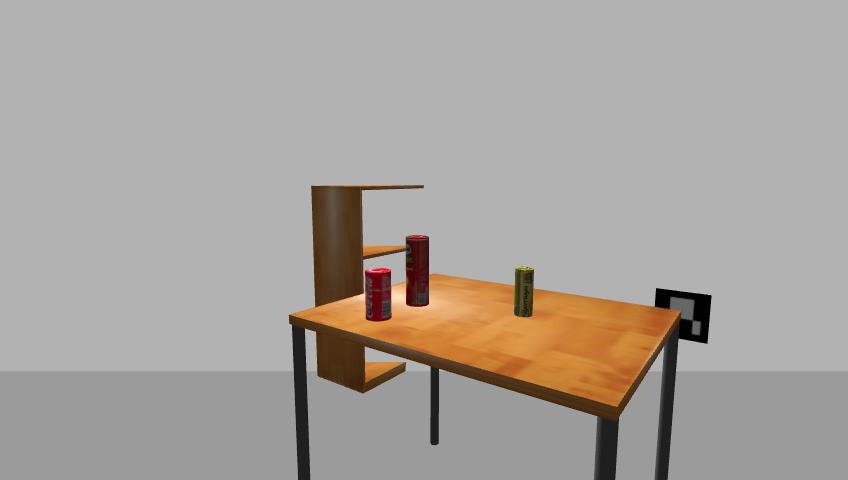aruco marker: (649, 286, 716, 346)
biscuits pack: (514, 266, 535, 319)
bookshelf: (306, 181, 428, 404)
coke can: (364, 268, 393, 322)
dinner table: (283, 274, 689, 480)
pringles can: (404, 235, 431, 309)
